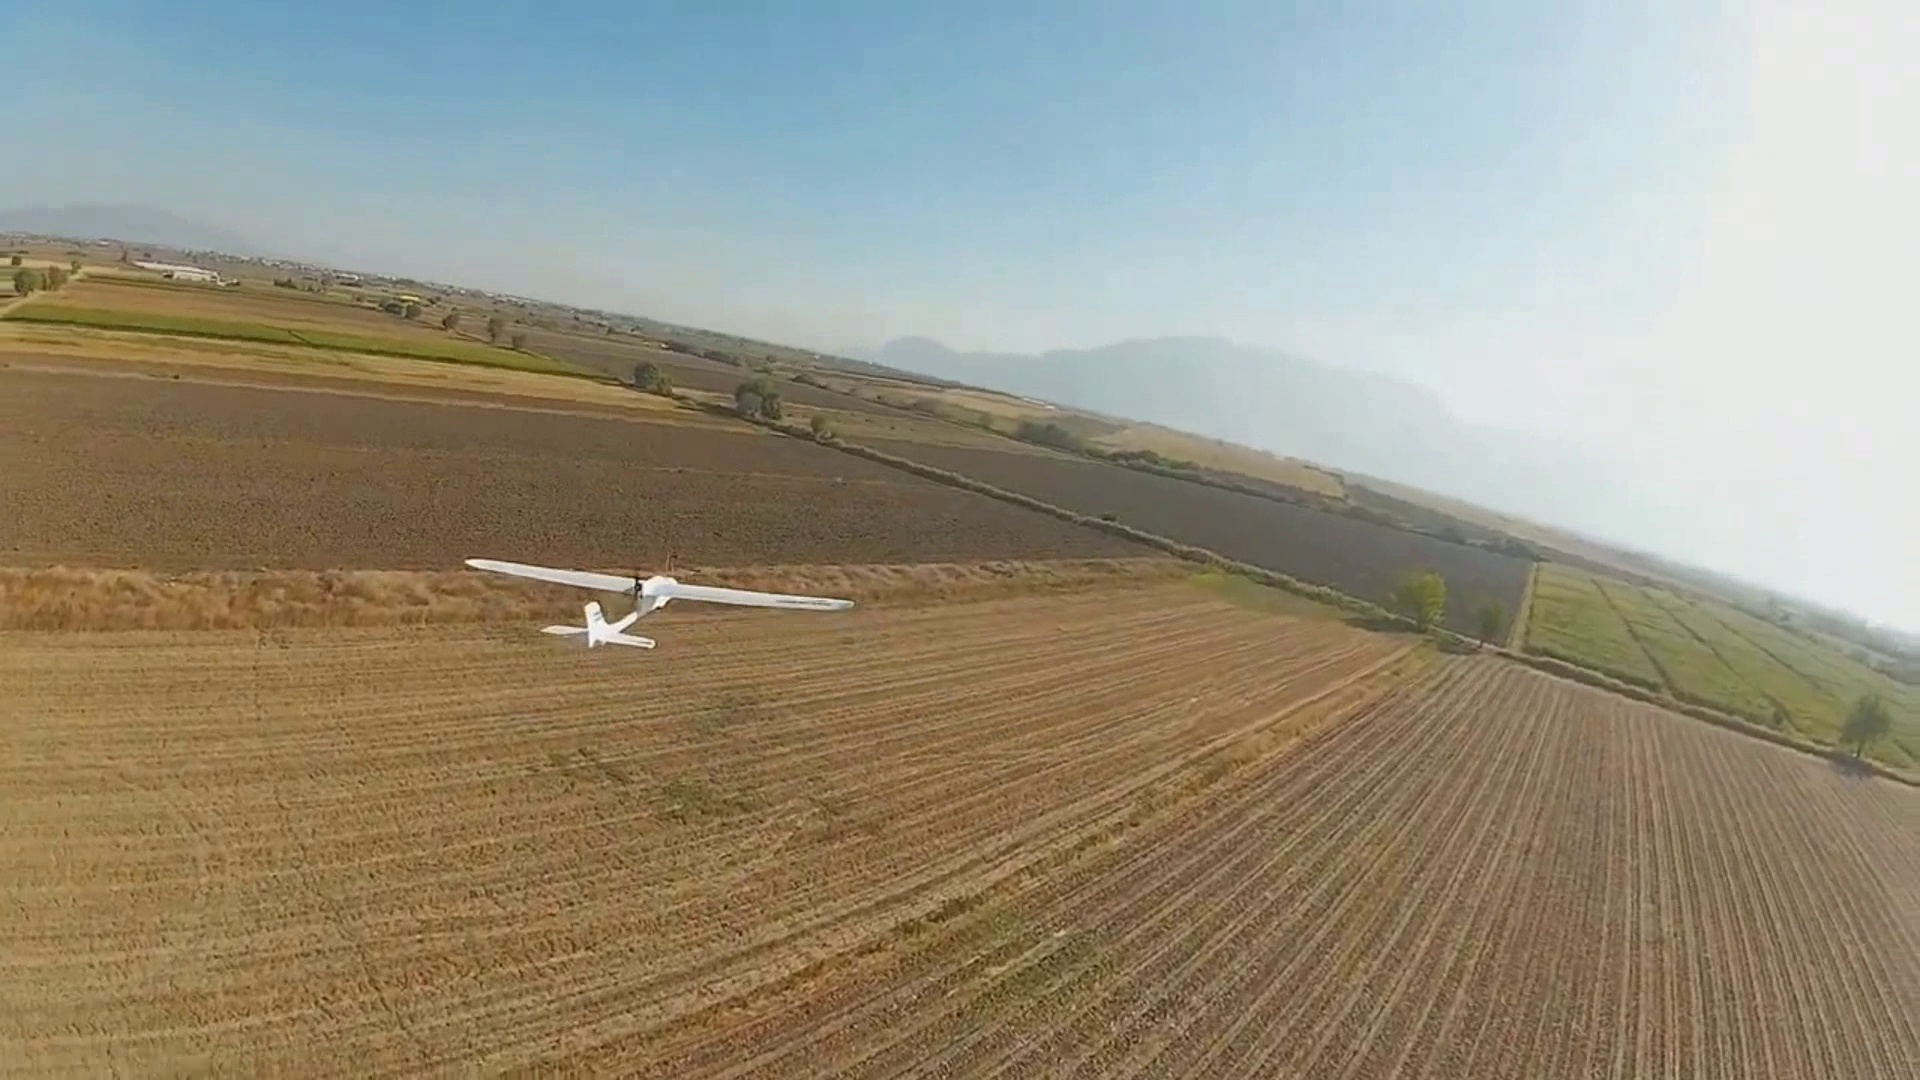airplane: (460, 554, 855, 653)
